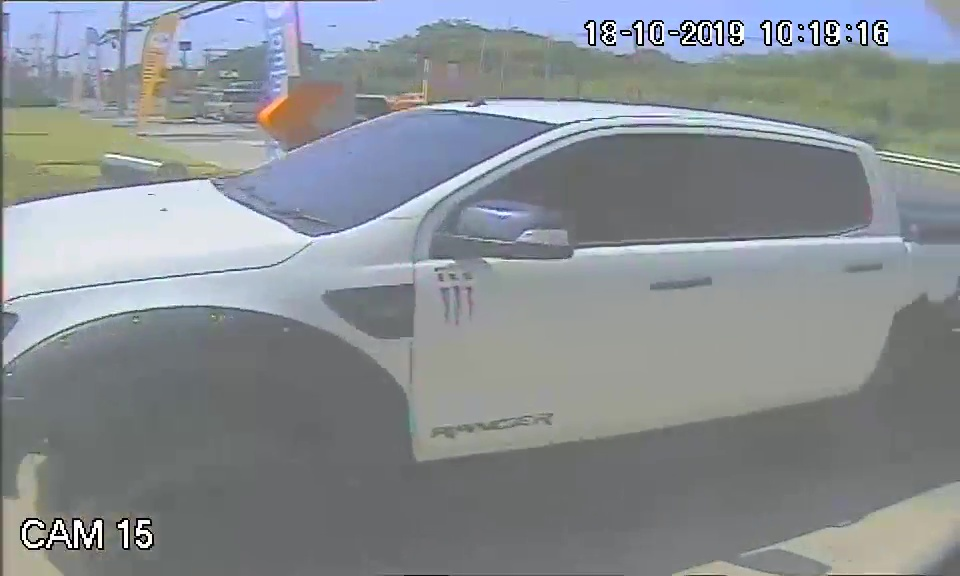pickup: (7, 97, 960, 481)
